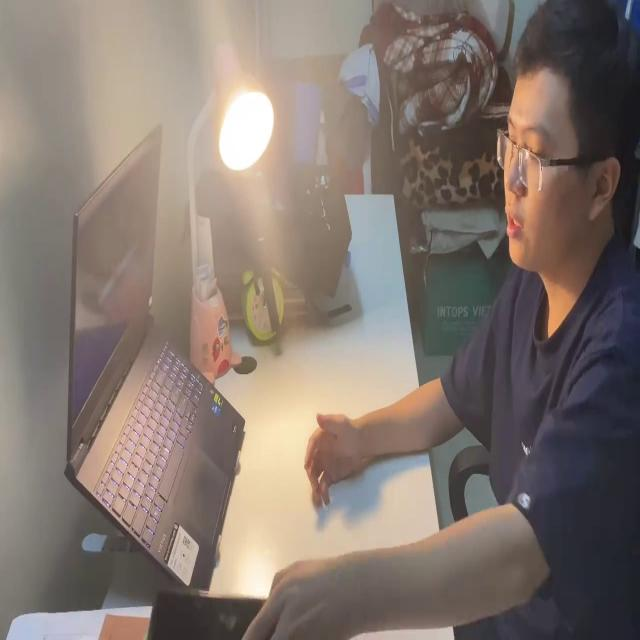book: (7, 608, 146, 640)
laptop: (63, 116, 247, 594)
phone: (146, 593, 260, 640)
student: (237, 0, 640, 640)
